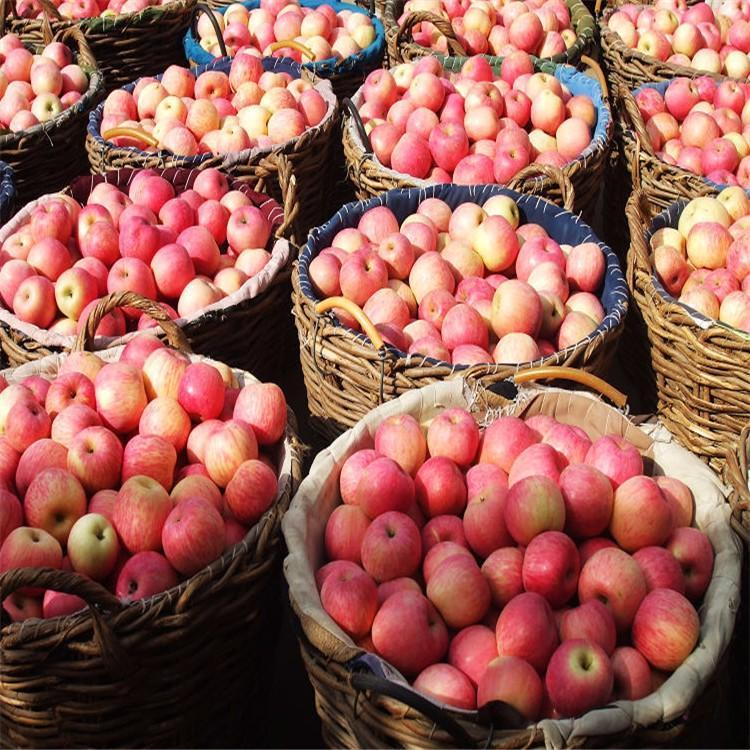apple: (370, 590, 449, 672), (630, 588, 702, 668), (580, 546, 647, 624), (546, 637, 613, 715), (517, 529, 582, 600), (427, 554, 492, 625), (24, 466, 87, 539), (495, 592, 558, 663), (320, 564, 379, 639), (163, 496, 222, 571), (112, 477, 171, 552), (359, 509, 422, 577), (504, 474, 567, 542), (609, 477, 672, 545), (477, 656, 544, 718), (558, 464, 614, 535), (93, 359, 147, 431), (353, 455, 416, 516), (65, 425, 119, 489), (205, 421, 256, 485), (222, 459, 277, 518), (415, 455, 468, 515), (233, 383, 287, 441), (122, 434, 178, 487), (426, 406, 478, 463), (176, 362, 225, 418)
